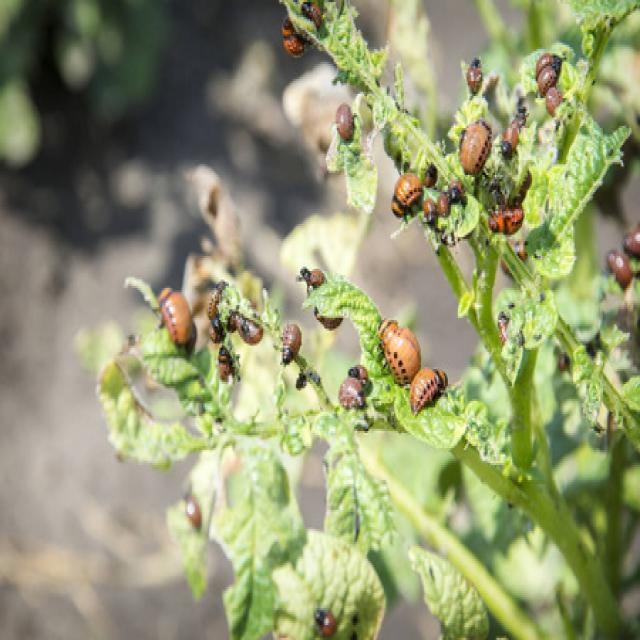ShuCaiHuaBanChong-Larva-: (378, 316, 422, 382), (268, 308, 306, 376), (405, 362, 449, 417), (159, 282, 194, 351), (455, 111, 492, 174), (388, 160, 422, 208)
